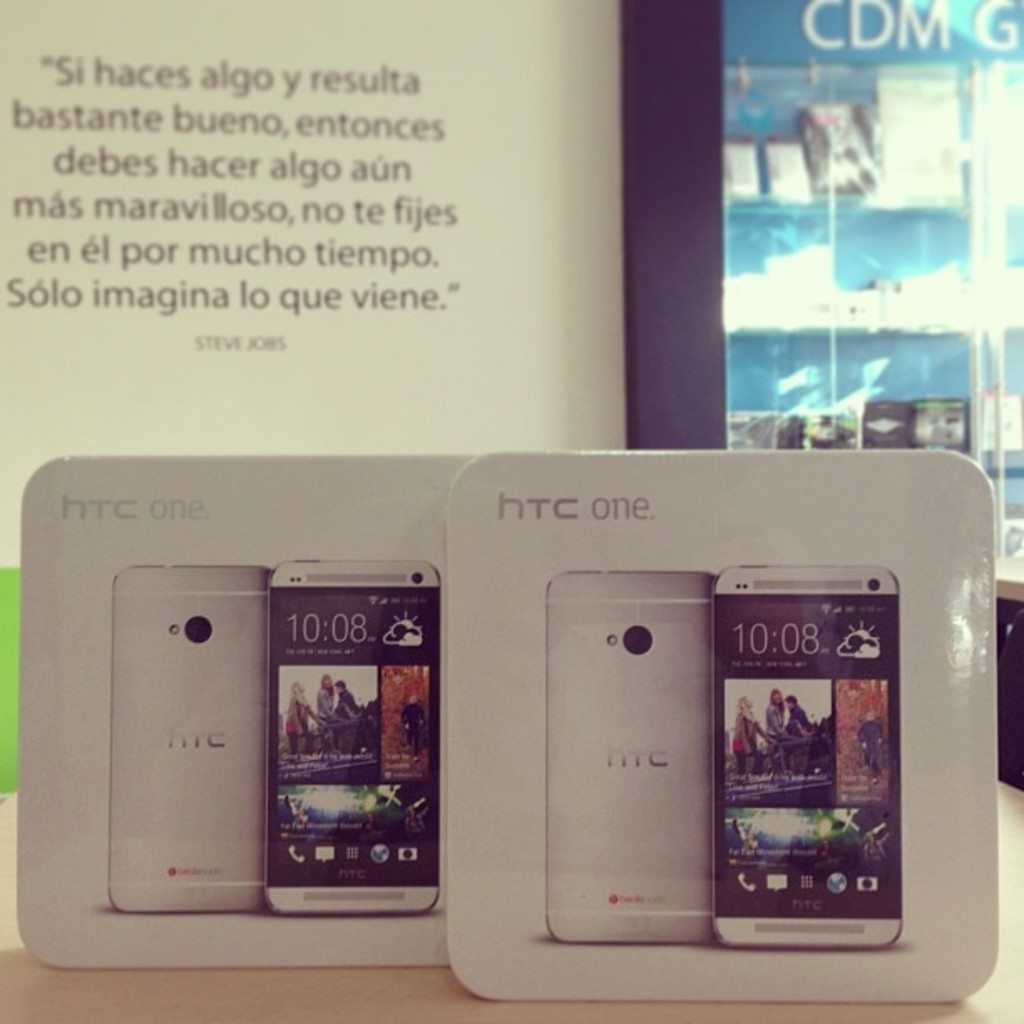Mobile-phone: (709, 552, 905, 957), (261, 557, 440, 914), (544, 566, 711, 945), (107, 564, 264, 914)
